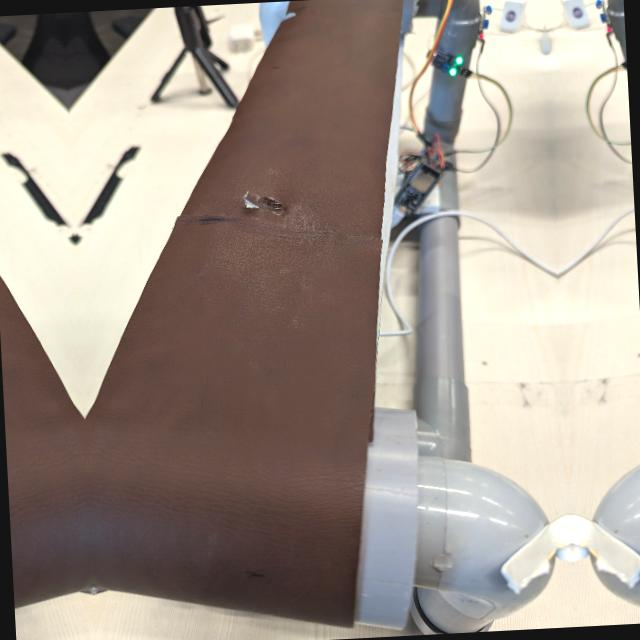joint_damage: (215, 177, 292, 239)
